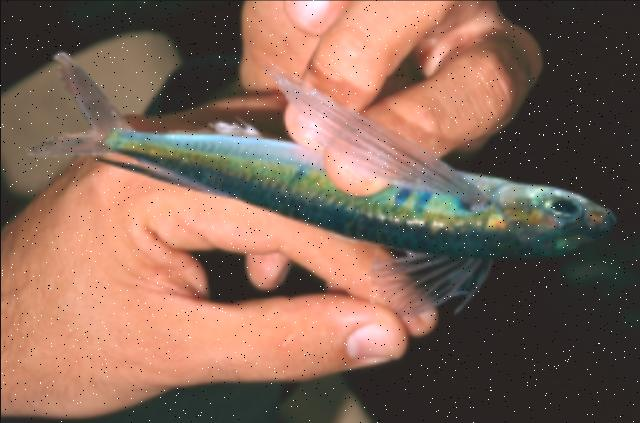Mulut: (580, 180, 634, 255)
Sirip Dada: (262, 52, 510, 352)
Sirip Ekor: (15, 34, 141, 178)
Sirip Perut: (204, 104, 270, 154)
